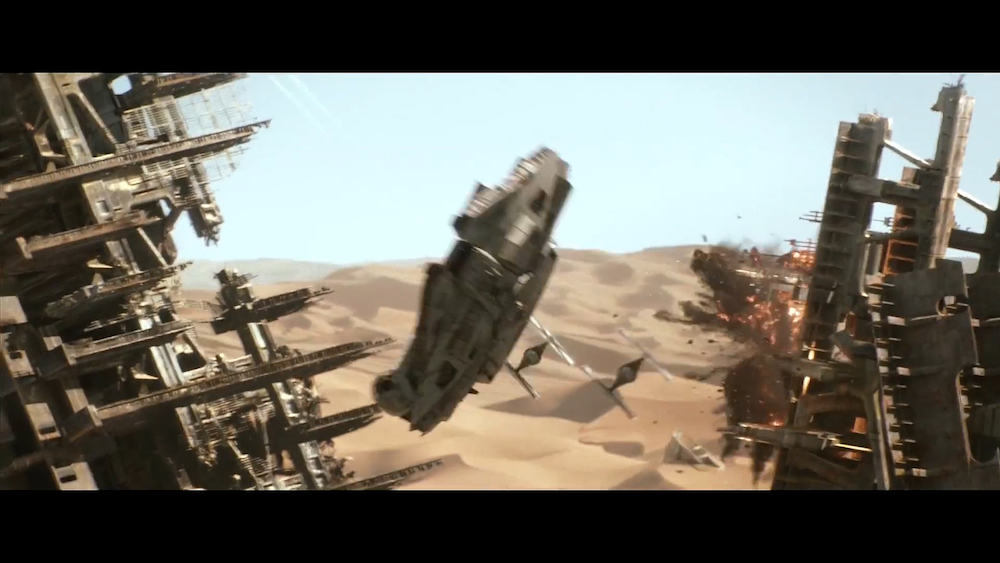Millennium Falcon: (371, 146, 576, 439)
Tie Fighter: (581, 328, 674, 422), (488, 314, 576, 401)
